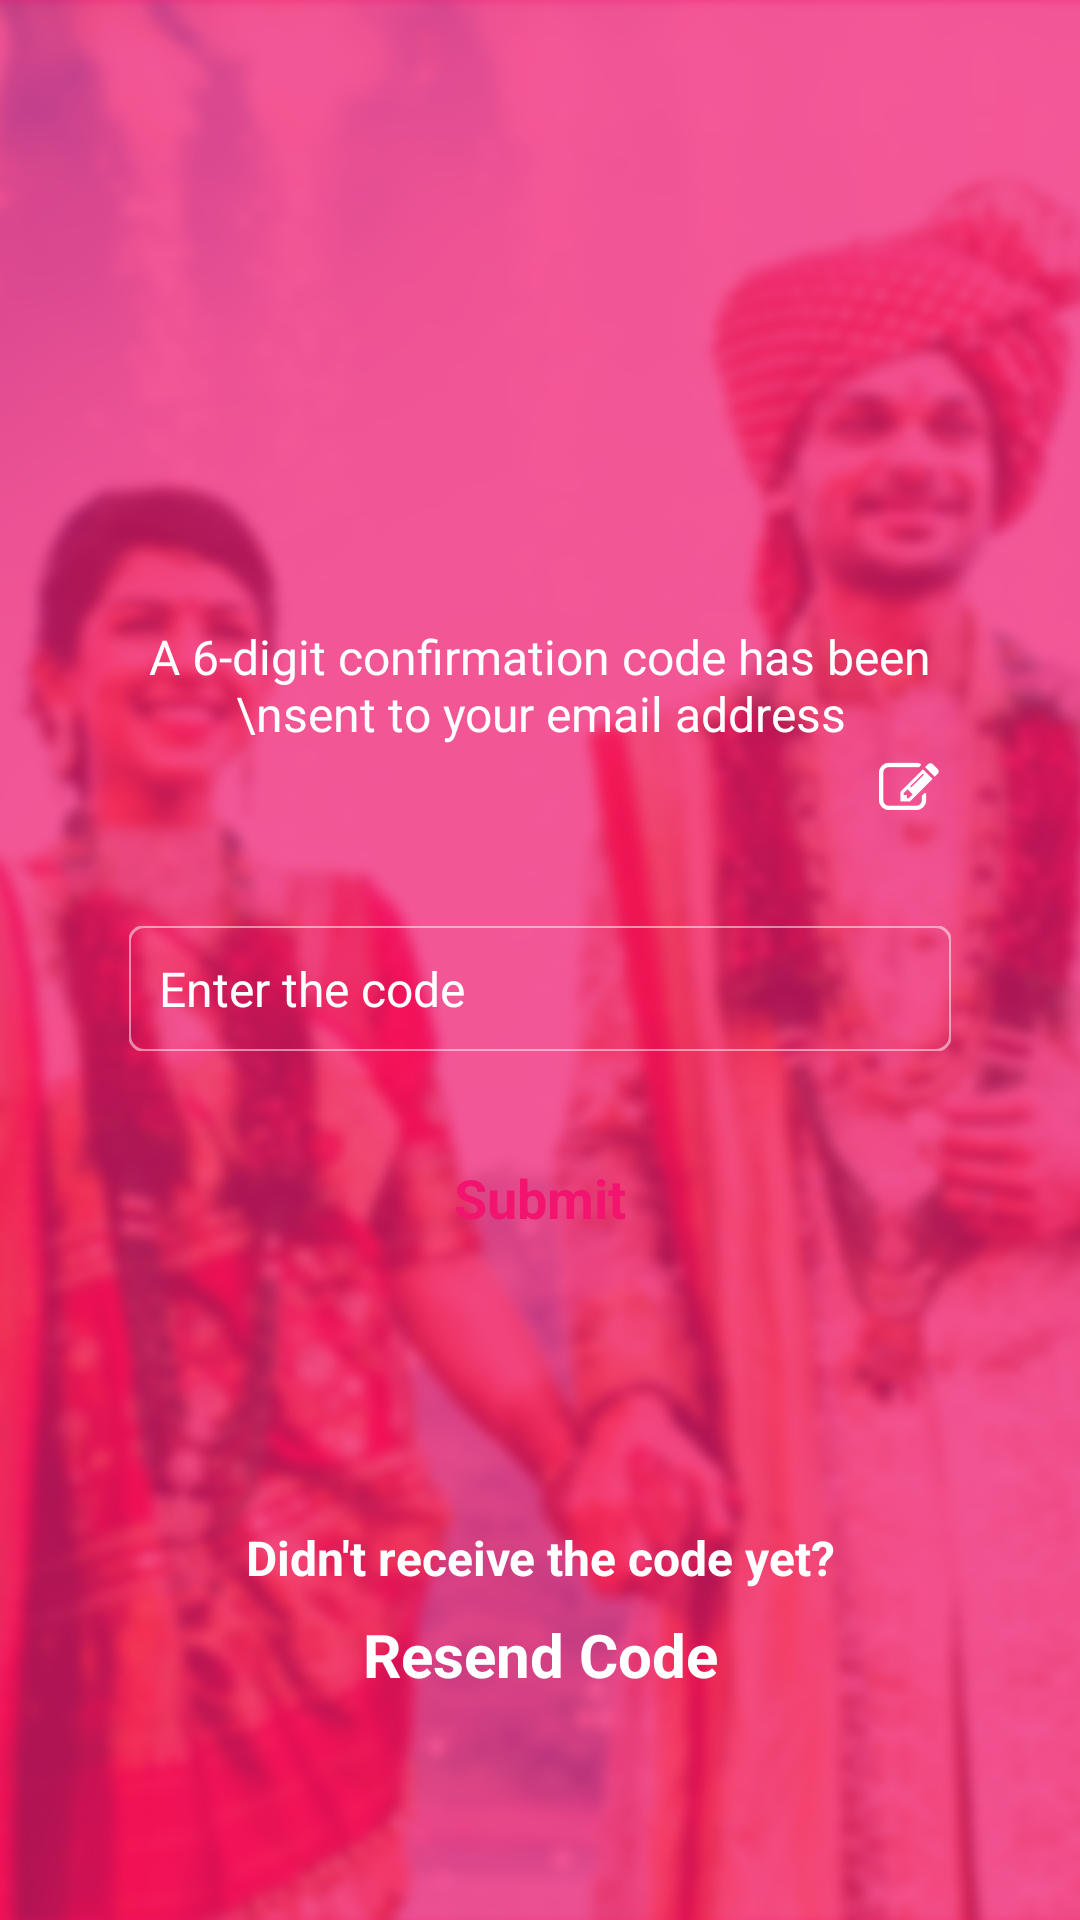

Icon click points for this 1080w x 1920h phone screenshot, format point (x, y):
editicon: point (909, 786)
